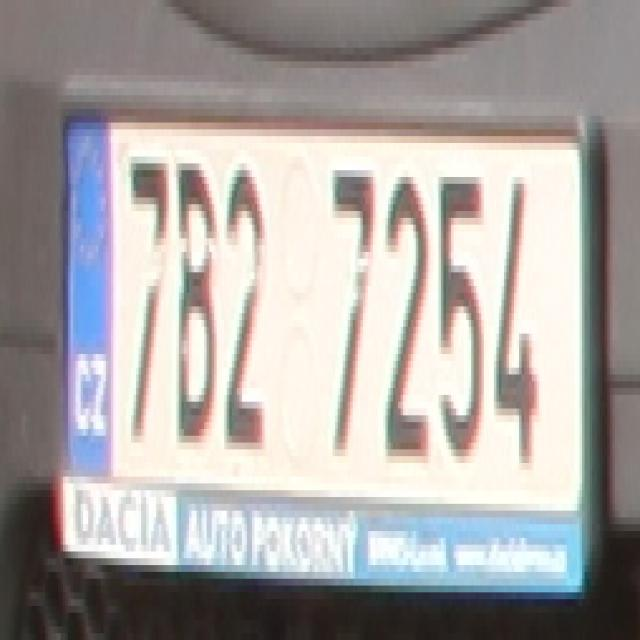2: (224, 163, 270, 463), (386, 170, 428, 463)
4: (489, 170, 537, 470)
5: (433, 163, 484, 463)
7: (328, 156, 370, 476), (123, 157, 164, 463)
B: (174, 143, 219, 449)
